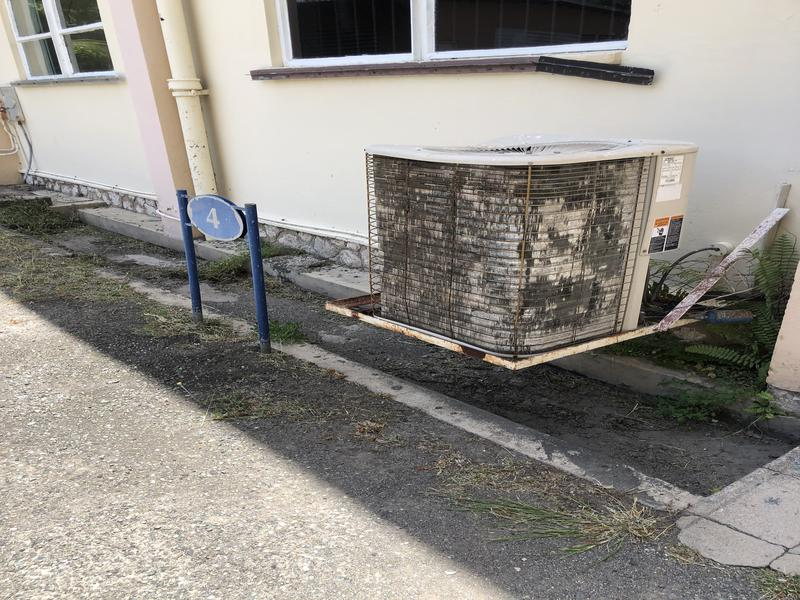18.0053530_-76.7490375_signatentrancetoscitech: (145, 179, 286, 352)
